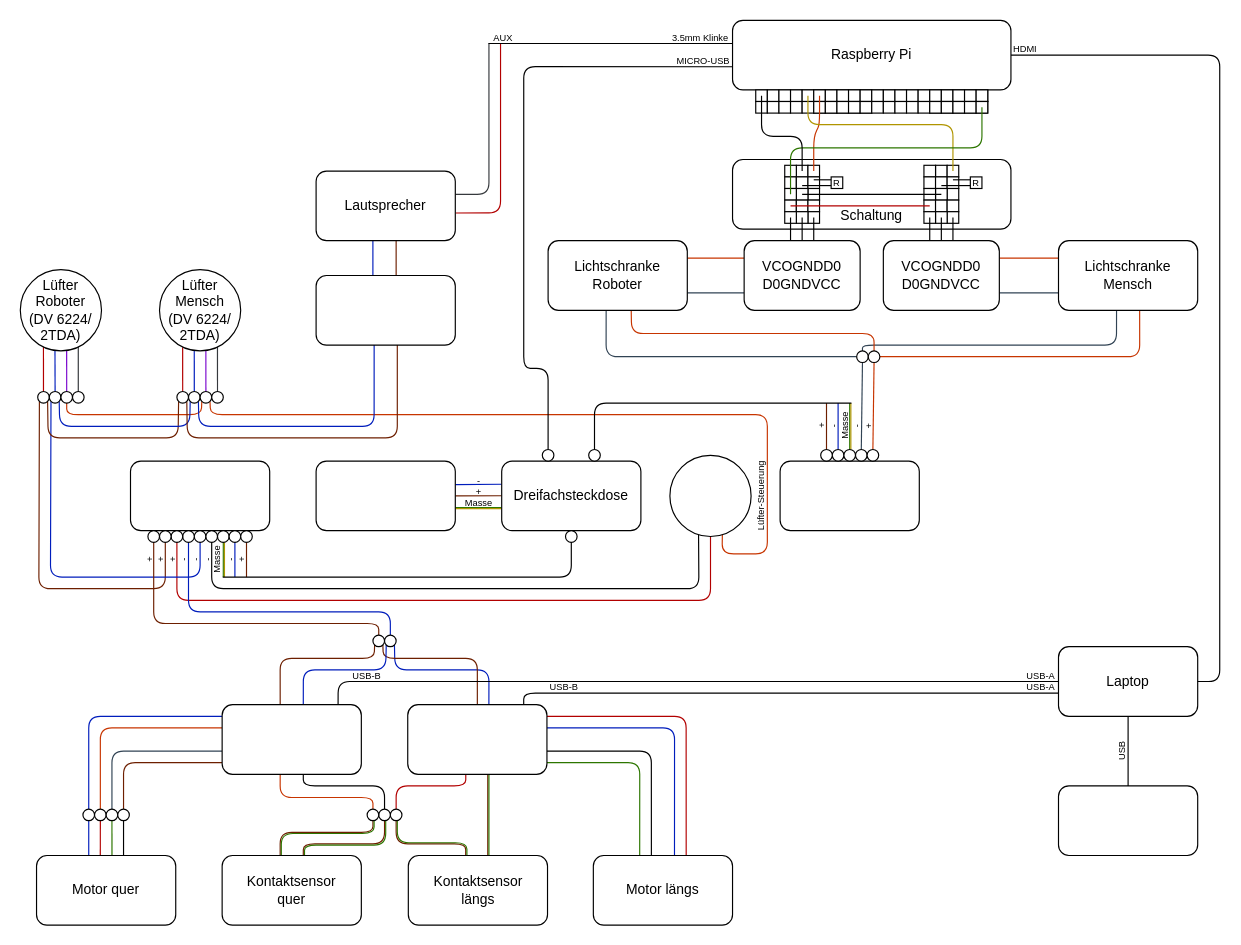
The diagram is 1241 pixels wide and 945 high, and some of its shapes have lost their labels. The centre of each missing label's shape, as x and y in pixels:
"Dreh- widerstand (ab 10K)" belongs at [710,495].
"Großes Netzteil (S-360-24)" belongs at [199,495].
"Kamera" belongs at [1127,820].
"Kleines Netzteil (S-30-5)" belongs at [849,495].
"Lautsprecher-steuerung (HX-M510)" belongs at [385,309].
"Motorsteuerung längs(Arduino CNC Shield V3.0)" belongs at [477,739].
"Motorsteuerung quer (Arduino CNC Shield V3.0)" belongs at [291,739].
"Stromanschluss/ Kippschalter" belongs at [385,495].
